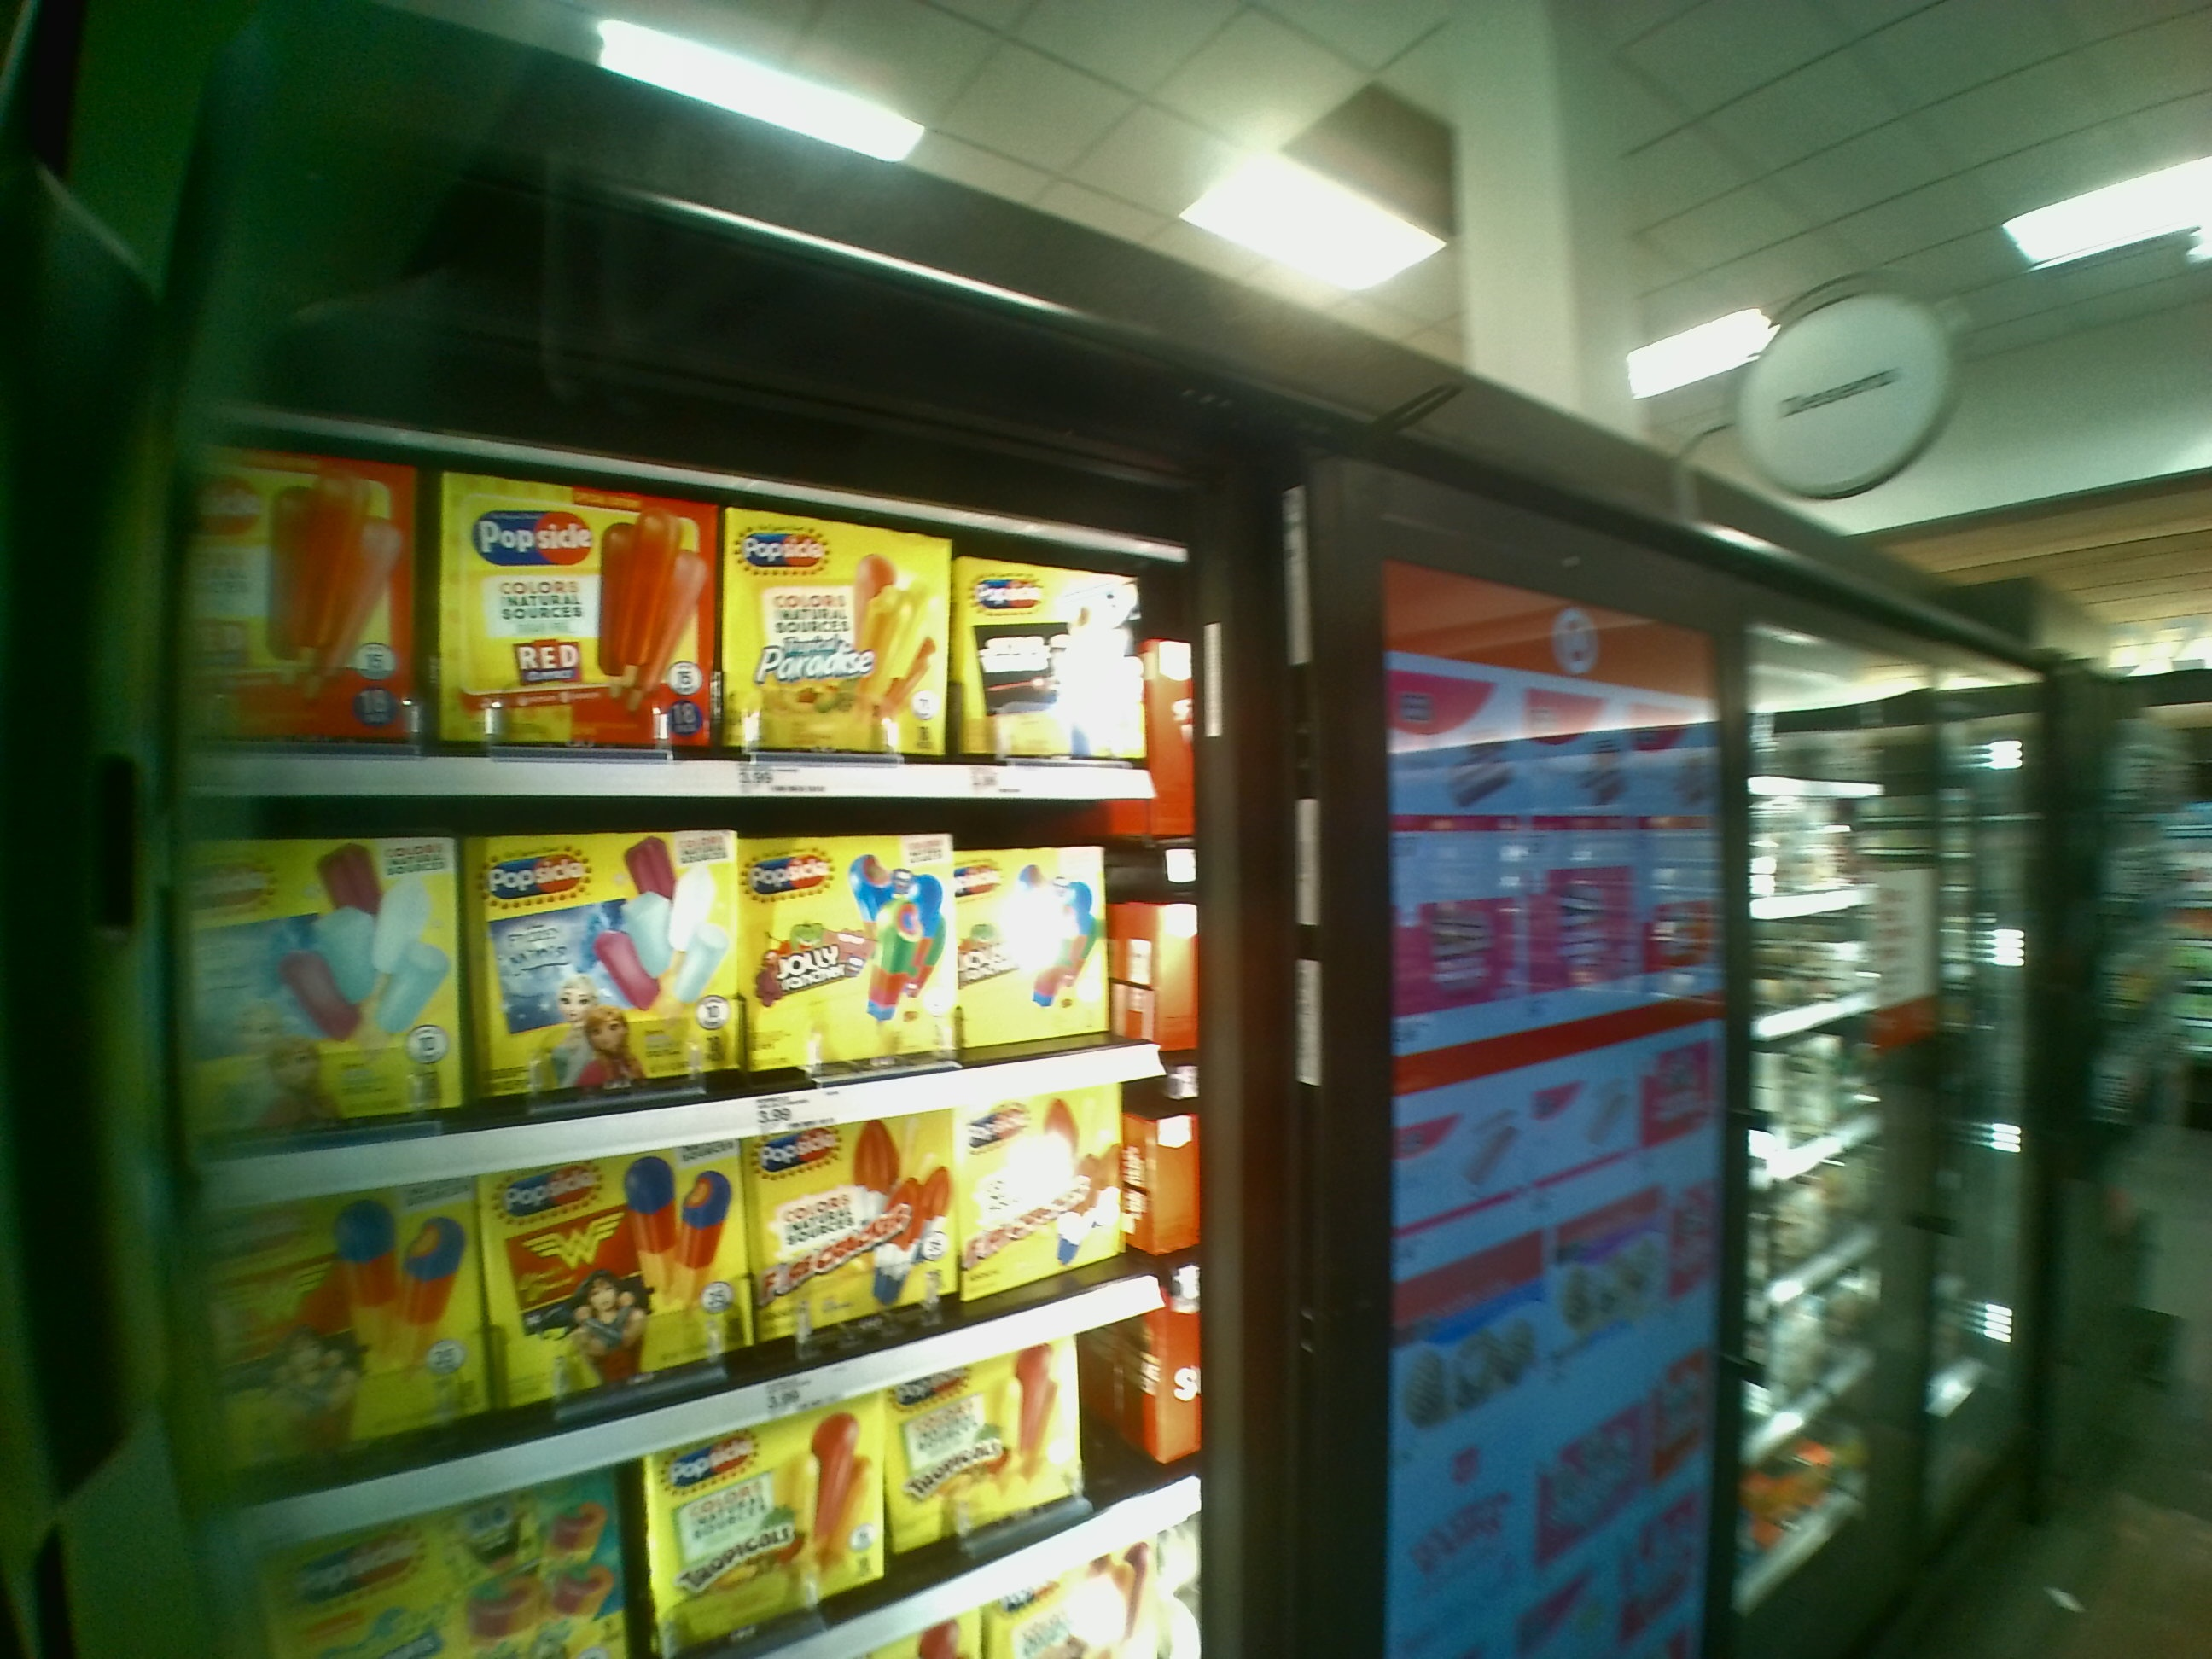shelf: (192, 420, 1184, 791), (185, 802, 1200, 1129), (200, 1134, 1223, 1446)
